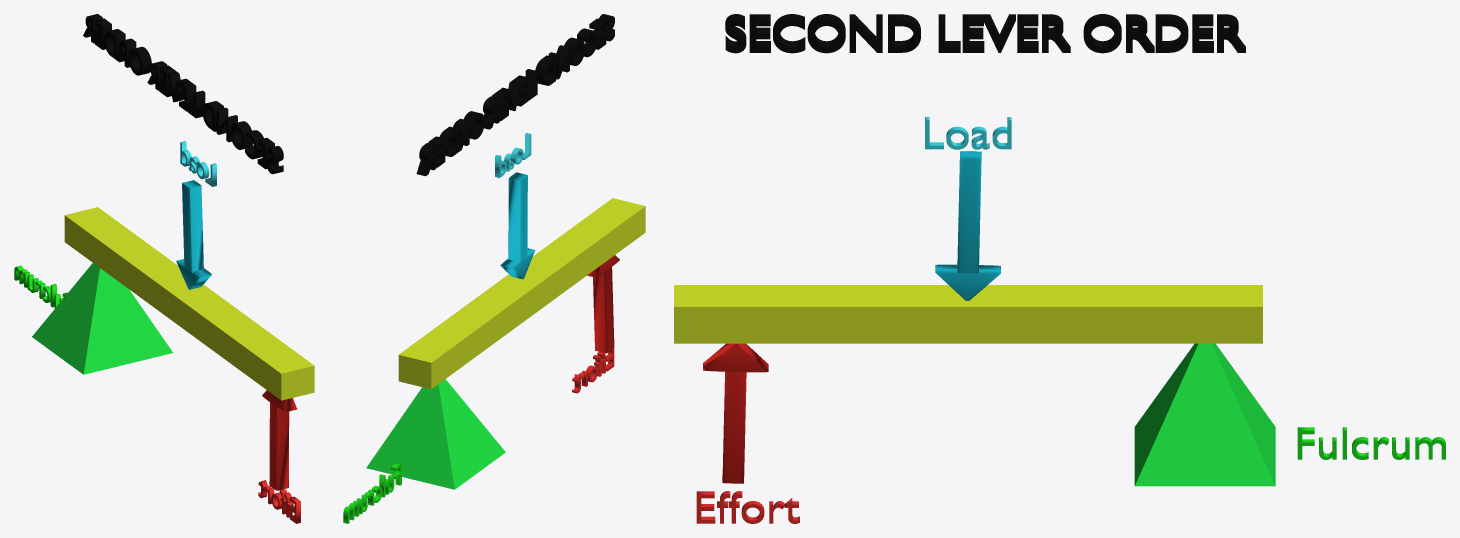
Rendered from Second Lever Order.gltf.
3 renders of one model, left to right at view 1: azimuth 30°, elevation 25°; view 2: azimuth 150°, elevation 25°; view 3: azimuth 270°, elevation 25°, orthographic. The views are drawn at different scales.
Parts seen in each view (by area): view 1: Cube.001, Cube, Text.003, Cylinder.001, Cylinder.008, Text, Text.002, Text.001; view 2: Cube.001, Cube, Text.003, Cylinder.001, Cylinder.008, Text.002, Text, Text.001; view 3: Cube.001, Cube, Text.003, Cylinder.001, Cylinder.008, Text.002, Text, Text.001.
Part boxes in pixels (box(x1,y1,x2,y2)): Cube.001: box(64, 207, 314, 400); Cube: box(32, 263, 172, 374); Text.003: box(83, 14, 283, 174); Cylinder.001: box(176, 180, 211, 289); Cylinder.008: box(262, 390, 297, 490); Text: box(258, 480, 300, 523); Text.002: box(14, 265, 67, 308); Text.001: box(180, 141, 216, 186); Cube.001: box(398, 198, 645, 389); Cube: box(366, 379, 505, 489); Text.003: box(416, 14, 614, 176); Cylinder.001: box(500, 172, 535, 279); Cylinder.008: box(587, 255, 619, 353); Text.002: box(343, 462, 401, 523); Text: box(572, 348, 614, 393); Text.001: box(495, 133, 531, 177); Cube.001: box(674, 285, 1262, 343); Cube: box(1134, 343, 1275, 486); Text.003: box(725, 14, 1245, 53); Cylinder.001: box(935, 151, 1000, 300); Cylinder.008: box(703, 343, 768, 483); Text.002: box(1297, 427, 1445, 459); Text: box(696, 491, 799, 523); Text.001: box(925, 117, 1011, 149).
Bounding box in the file's own units: 1.48 × 5.8 × 8.13.
